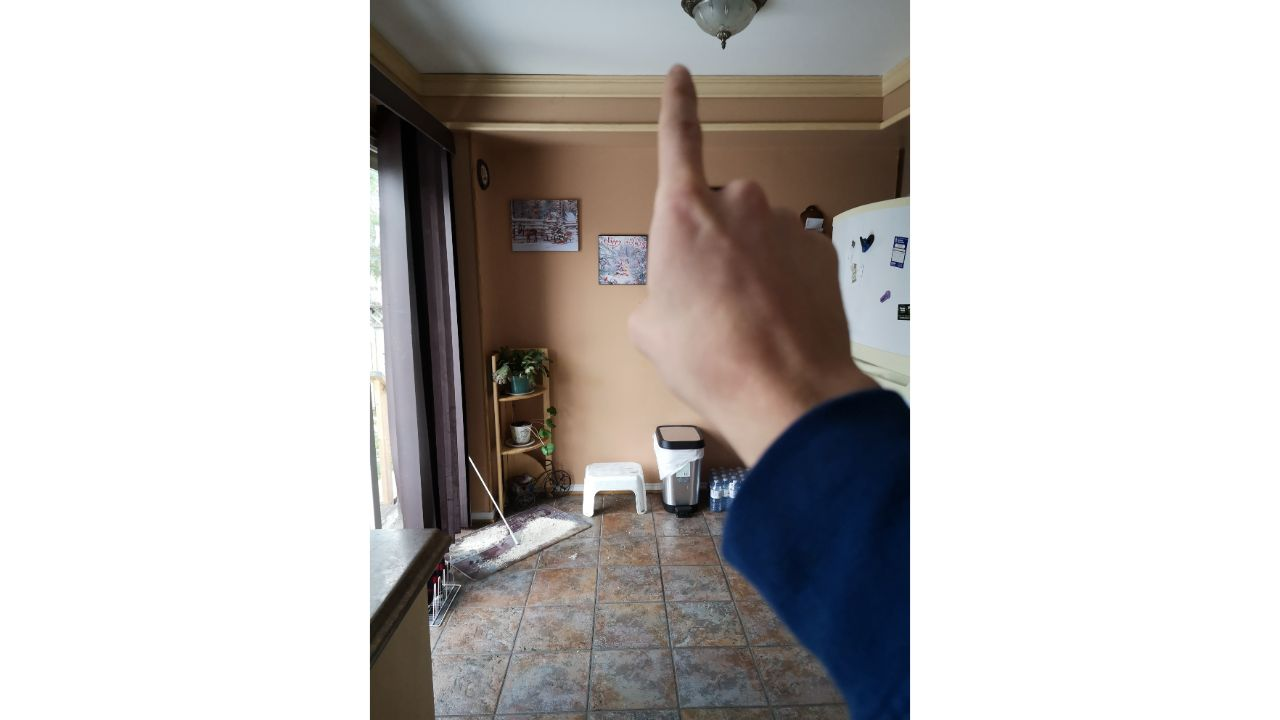finger: (623, 59, 863, 417)
